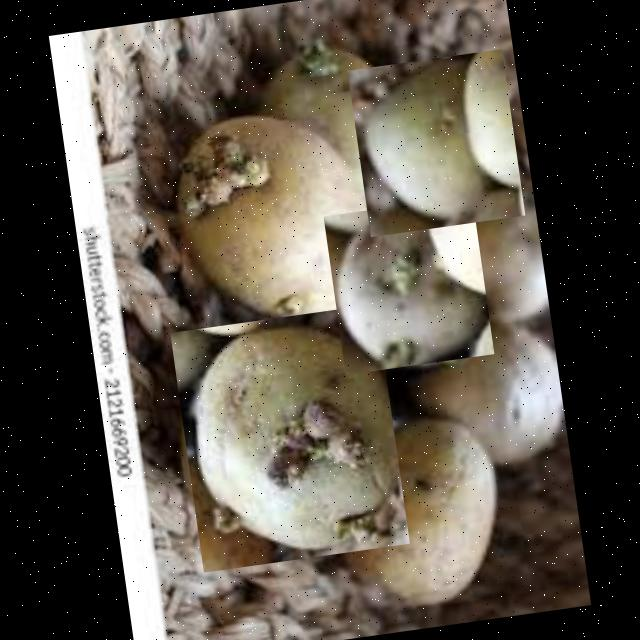Diseased-fungal potato: (321, 402, 526, 632)
Sprouted potato: (170, 303, 410, 572), (166, 97, 393, 340), (348, 48, 526, 236), (258, 31, 424, 225), (323, 195, 494, 374)
